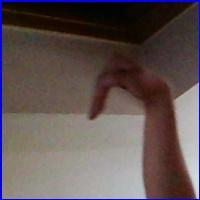del: (87, 43, 167, 126)
